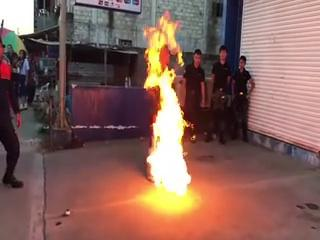Fire: (145, 25, 192, 197)
